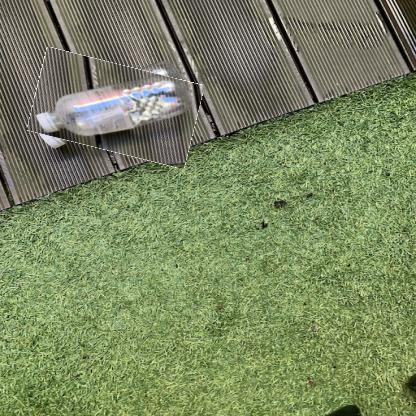plastic-bottles: (32, 57, 201, 161)
